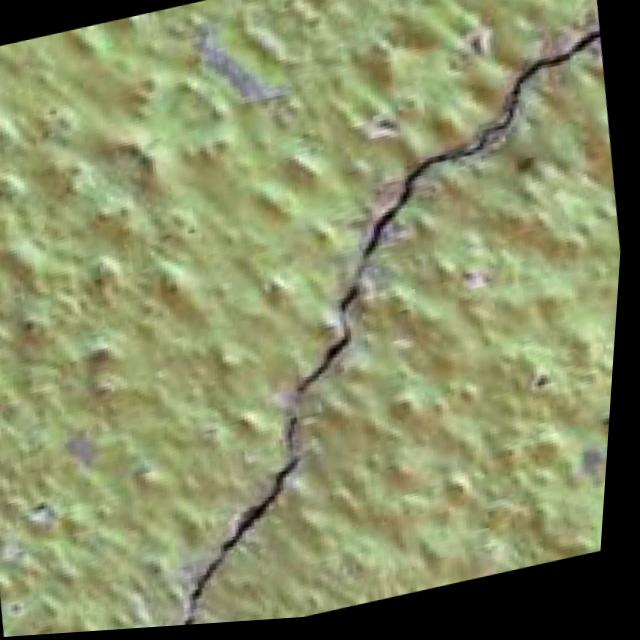Crack: (88, 0, 638, 634)
